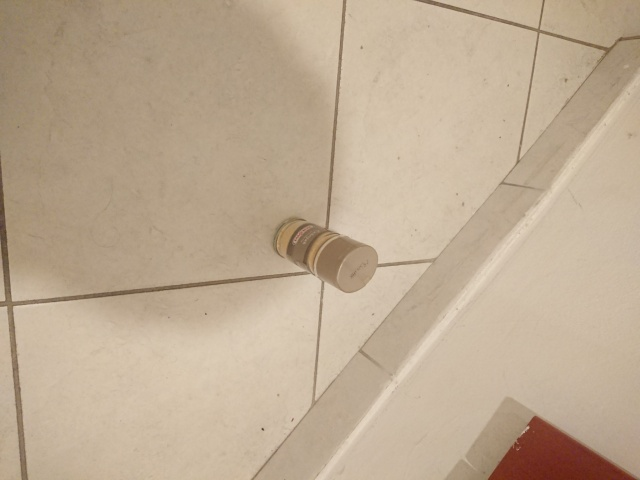Kotanyi Garlic Granules 70g: (270, 216, 380, 296)
